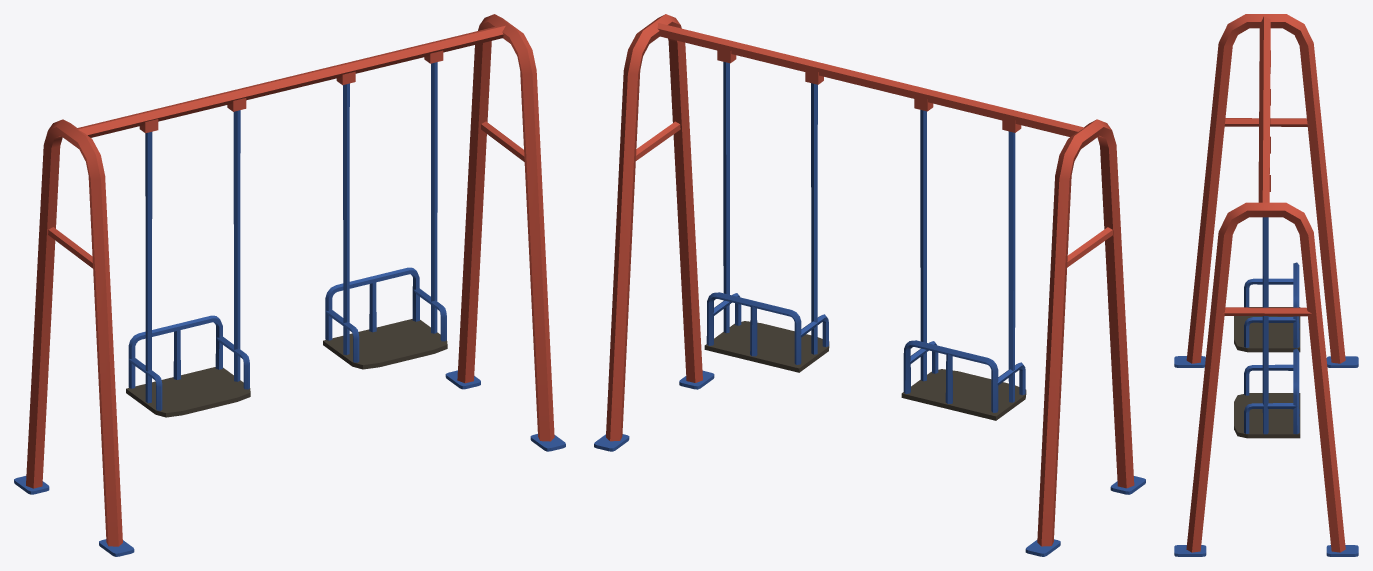
The model's file is Swing.gltf.
The picture shows the model from 3 angles, left to right: view 1: azimuth 30°, elevation 25°; view 2: azimuth 150°, elevation 25°; view 3: azimuth 270°, elevation 25°; orthographic projection. The views are drawn at different scales.
Parts seen in each view (by area): view 1: SM_Swings_03; view 2: SM_Swings_03; view 3: SM_Swings_03.
Part boxes in pixels (box(x1,y1,x2,y2)): SM_Swings_03: box(14, 14, 565, 556); SM_Swings_03: box(594, 14, 1145, 556); SM_Swings_03: box(1174, 14, 1358, 556).
Size of the model in its own units: 3.07 by 2.53 by 1.21.
Materials: 1 (1 with a texture image).
